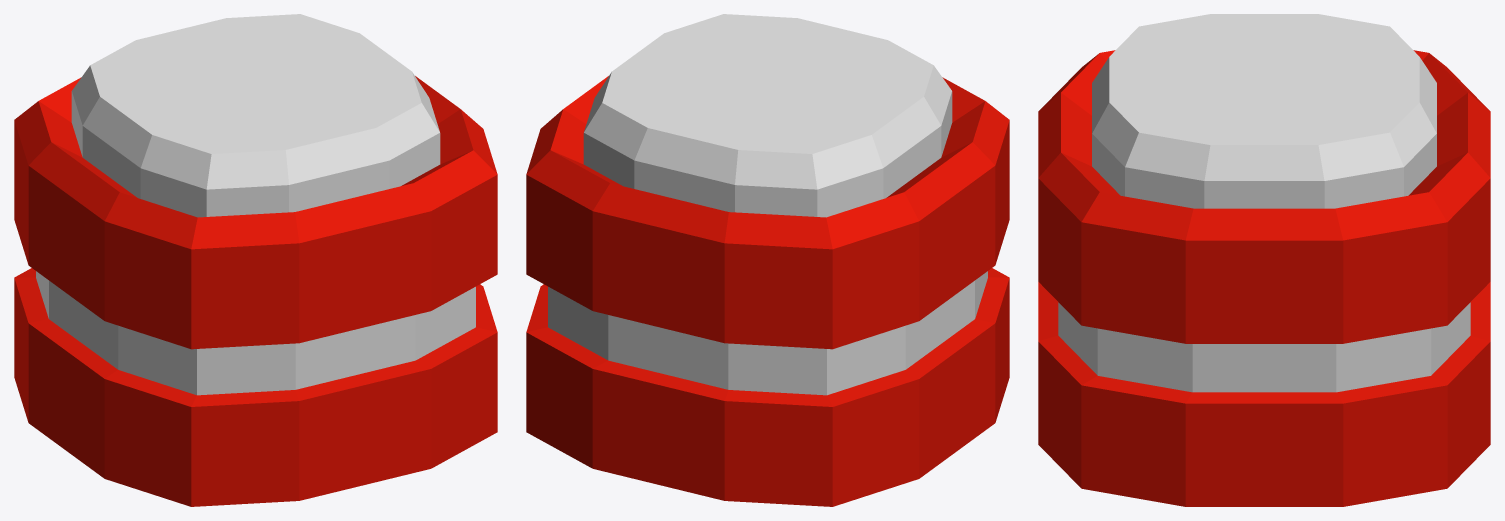
The model's file is SM_PumpButton.fbx.
3 views of the same model, side by side, from view 1: azimuth 30°, elevation 25°; view 2: azimuth 150°, elevation 25°; view 3: azimuth 270°, elevation 25° (orthographic). The views are drawn at different scales.
Visible parts, largest first — view 1: PumpButton; view 2: PumpButton; view 3: PumpButton.
Boxes of the visible parts, x1,y1,x2,y2 form: PumpButton: (14, 14, 497, 506); PumpButton: (526, 14, 1009, 506); PumpButton: (1038, 14, 1490, 506).
Size of the model in its own units: 200 by 162 by 200.
